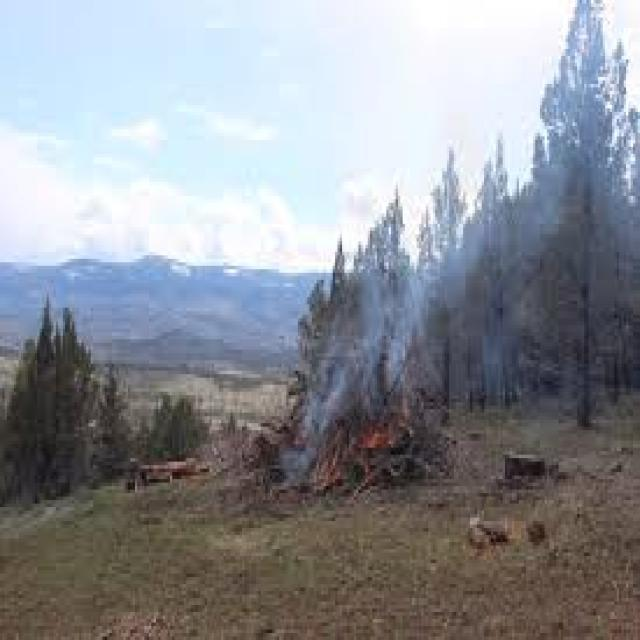Fire: (352, 388, 401, 488)
Smoke: (318, 259, 454, 383)
